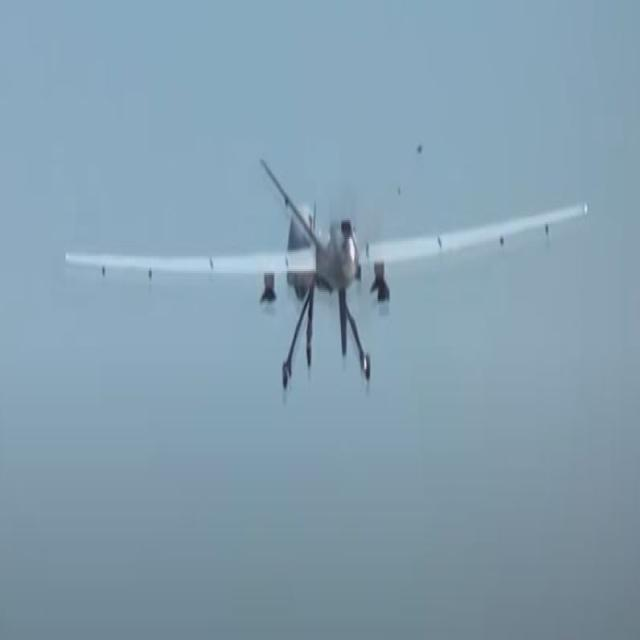iha: (58, 131, 583, 387)
